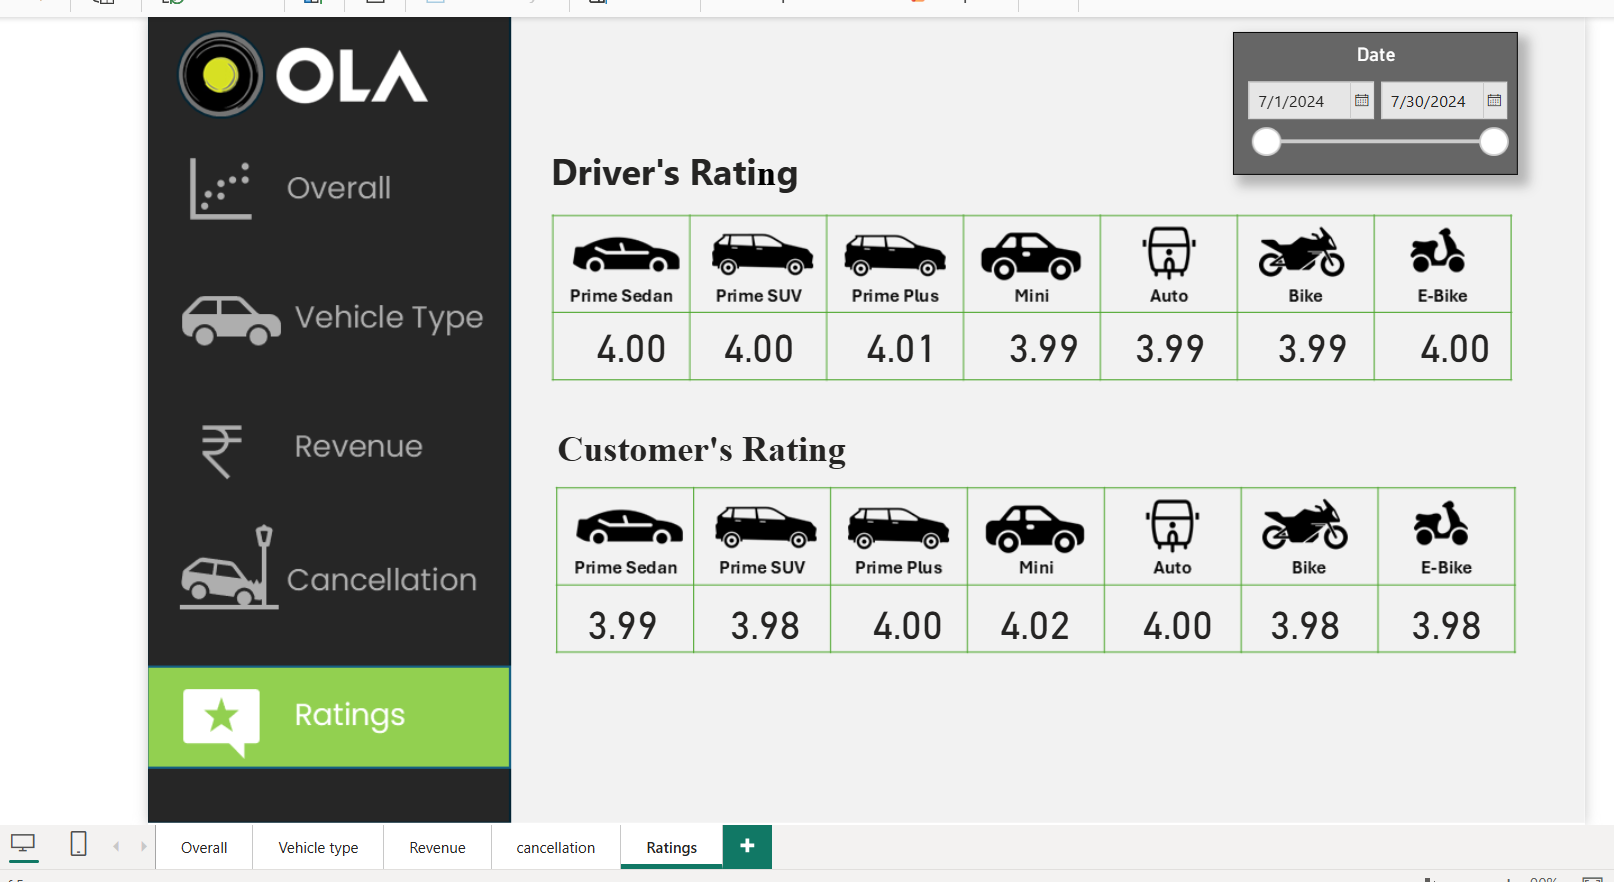

The dashboard page shown, as its layout file describes it:
{"tool":"powerbi","page":{"name":"Ratings","canvas":[1280,720],"ordinal":4},"visuals":[{"type":"actionButton","box":[0,109.8,323.3,95.3],"z":0},{"type":"actionButton","box":[0,222,323.3,95.3],"z":1000},{"type":"actionButton","box":[0,330.6,323.3,95.3],"z":2000},{"type":"actionButton","box":[0,442.8,323.3,95.3],"z":3000},{"type":"card","fields":{"Values":["Avg(Bookings-20000-Rows xlsx - July.Driver_Ratings)"]},"box":[367.2,268.3,126.9,48.5],"z":3001},{"type":"card","fields":{"Values":["Avg(Bookings-20000-Rows xlsx - July.Driver_Ratings)"]},"box":[481.2,268.3,126.9,48.5],"z":3002},{"type":"card","fields":{"Values":["Avg(Bookings-20000-Rows xlsx - July.Driver_Ratings)"]},"box":[608.1,268.3,126.9,48.5],"z":3003},{"type":"card","fields":{"Values":["Avg(Bookings-20000-Rows xlsx - July.Driver_Ratings)"]},"box":[734.9,268.3,126.9,48.5],"z":3004},{"type":"card","fields":{"Values":["Avg(Bookings-20000-Rows xlsx - July.Driver_Ratings)"]},"box":[847.5,268.3,126.9,48.5],"z":3005},{"type":"card","fields":{"Values":["Avg(Bookings-20000-Rows xlsx - July.Driver_Ratings)"]},"box":[974.4,268.3,126.9,48.5],"z":3006},{"type":"card","fields":{"Values":["Avg(Bookings-20000-Rows xlsx - July.Driver_Ratings)"]},"box":[1101.3,268.3,126.9,48.5],"z":3007},{"type":"textbox","box":[353.5,109.8,232.3,58.4],"z":3008},{"type":"textbox","box":[359.2,360.6,323.6,67],"z":3009},{"type":"card","fields":{"Values":["Avg(Bookings-20000-Rows xlsx - July.Customer_Rating)"]},"box":[359.2,514.6,126.9,48.5],"z":3010},{"type":"card","fields":{"Values":["Avg(Bookings-20000-Rows xlsx - July.Customer_Rating)"]},"box":[486.1,514.6,126.9,48.5],"z":3011},{"type":"card","fields":{"Values":["Avg(Bookings-20000-Rows xlsx - July.Customer_Rating)"]},"box":[612.9,514.6,126.9,48.5],"z":3012},{"type":"card","fields":{"Values":["Avg(Bookings-20000-Rows xlsx - July.Customer_Rating)"]},"box":[726.9,514.6,126.9,48.5],"z":3013},{"type":"card","fields":{"Values":["Avg(Bookings-20000-Rows xlsx - July.Customer_Rating)"]},"box":[853.8,514.6,126.9,48.5],"z":3014},{"type":"card","fields":{"Values":["Avg(Bookings-20000-Rows xlsx - July.Customer_Rating)"]},"box":[967.8,517.4,126.9,42.8],"z":3015},{"type":"card","fields":{"Values":["Avg(Bookings-20000-Rows xlsx - July.Customer_Rating)"]},"box":[1093.3,514.6,126.9,48.5],"z":3016},{"type":"slicer","title":"Date","fields":{"Values":["Bookings-20000-Rows xlsx - July.Date"]},"box":[966.4,12.8,253.7,126.9],"z":3017}]}

Visuals, with their boxes on the page's 1280x720 design canvas (x1, y1, x2, y2). These are canvas units, not pixel positions in the 1614x882 screenshot, which may show the page scaled, cropped or inside an application window:
actionButton: x1=0 y1=110 x2=323 y2=205
actionButton: x1=0 y1=222 x2=323 y2=317
actionButton: x1=0 y1=331 x2=323 y2=426
actionButton: x1=0 y1=443 x2=323 y2=538
card - Avg(Bookings-20000-Rows xlsx - July.Driver_Ratings): x1=367 y1=268 x2=494 y2=317
card - Avg(Bookings-20000-Rows xlsx - July.Driver_Ratings): x1=481 y1=268 x2=608 y2=317
card - Avg(Bookings-20000-Rows xlsx - July.Driver_Ratings): x1=608 y1=268 x2=735 y2=317
card - Avg(Bookings-20000-Rows xlsx - July.Driver_Ratings): x1=735 y1=268 x2=862 y2=317
card - Avg(Bookings-20000-Rows xlsx - July.Driver_Ratings): x1=848 y1=268 x2=974 y2=317
card - Avg(Bookings-20000-Rows xlsx - July.Driver_Ratings): x1=974 y1=268 x2=1101 y2=317
card - Avg(Bookings-20000-Rows xlsx - July.Driver_Ratings): x1=1101 y1=268 x2=1228 y2=317
textbox: x1=354 y1=110 x2=586 y2=168
textbox: x1=359 y1=361 x2=683 y2=428
card - Avg(Bookings-20000-Rows xlsx - July.Customer_Rating): x1=359 y1=515 x2=486 y2=563
card - Avg(Bookings-20000-Rows xlsx - July.Customer_Rating): x1=486 y1=515 x2=613 y2=563
card - Avg(Bookings-20000-Rows xlsx - July.Customer_Rating): x1=613 y1=515 x2=740 y2=563
card - Avg(Bookings-20000-Rows xlsx - July.Customer_Rating): x1=727 y1=515 x2=854 y2=563
card - Avg(Bookings-20000-Rows xlsx - July.Customer_Rating): x1=854 y1=515 x2=981 y2=563
card - Avg(Bookings-20000-Rows xlsx - July.Customer_Rating): x1=968 y1=517 x2=1095 y2=560
card - Avg(Bookings-20000-Rows xlsx - July.Customer_Rating): x1=1093 y1=515 x2=1220 y2=563
"Date" slicer: x1=966 y1=13 x2=1220 y2=140
